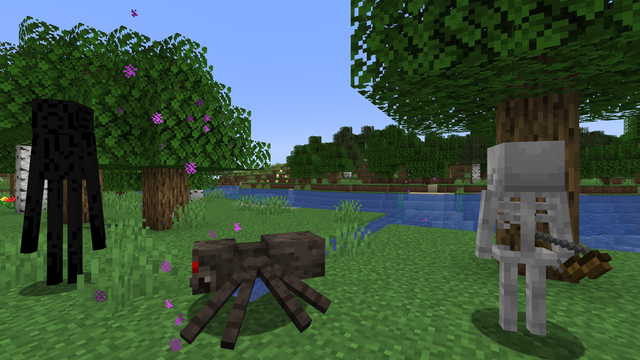araignees: (167, 222, 322, 349)
endermens: (31, 89, 96, 293)
squelettes: (487, 139, 568, 354)
